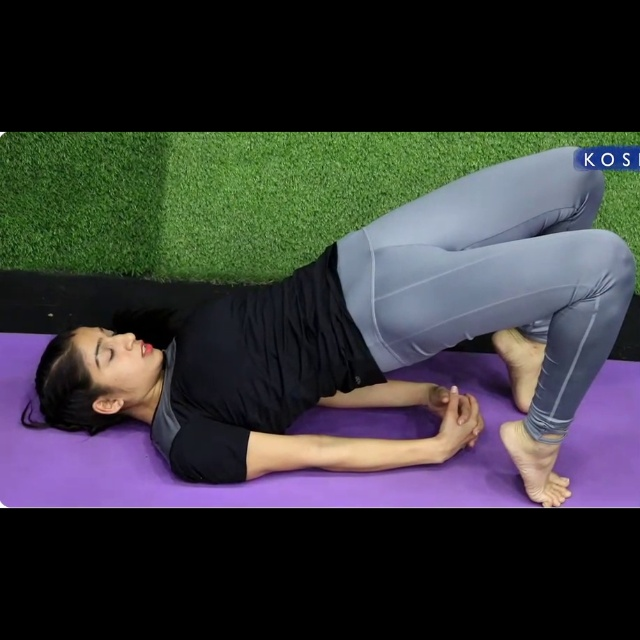Bridge_Pose: (20, 141, 637, 507)
